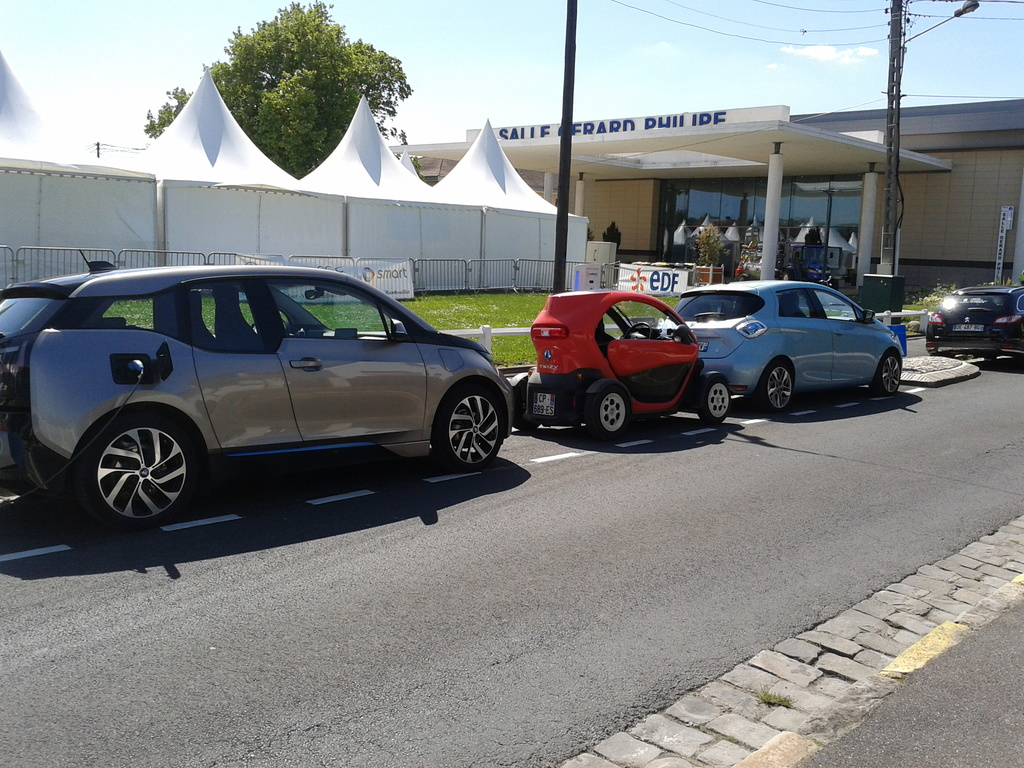cars: (0, 247, 512, 542), (662, 280, 904, 420), (925, 285, 1023, 367)
